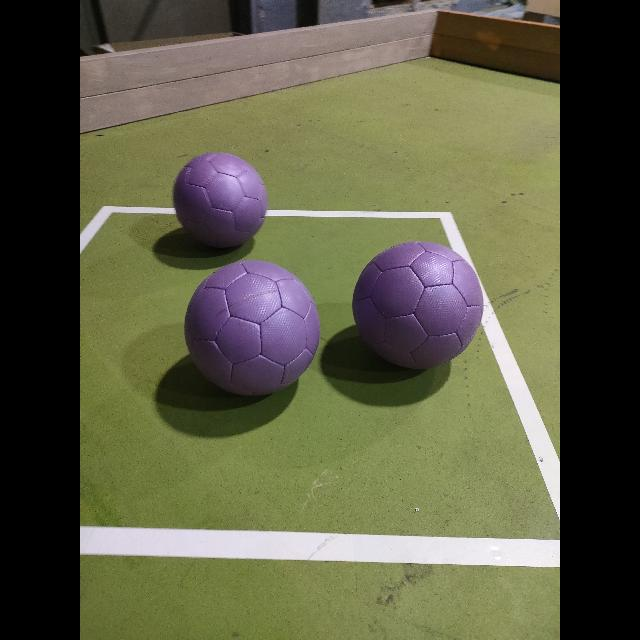P: (184, 260, 320, 396), (353, 242, 483, 368), (174, 152, 266, 248)
